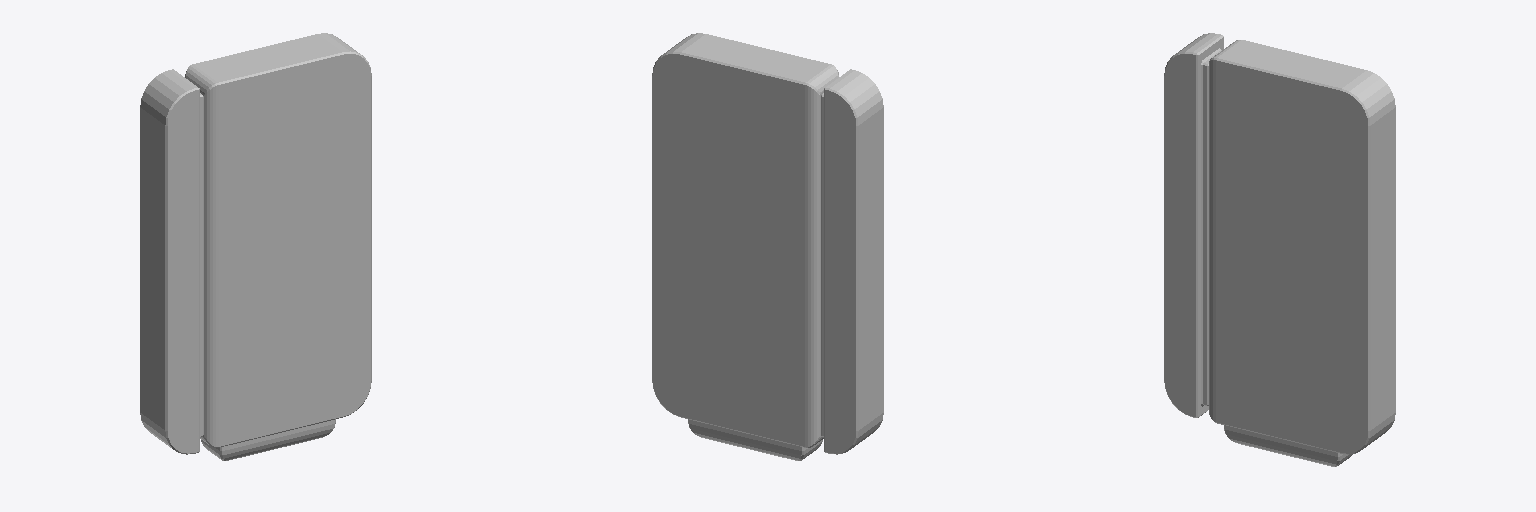
Rendered from SetA_Misc_11.obj.
3 views of the same model, side by side, from view 1: azimuth 30°, elevation 25°; view 2: azimuth 150°, elevation 25°; view 3: azimuth 330°, elevation 25° (orthographic).
Visible parts, largest first — view 1: SetA_Misc_11; view 2: SetA_Misc_11; view 3: SetA_Misc_11.
Part boxes in pixels (x1,y1,x2,y2): SetA_Misc_11: (140, 33, 371, 460); SetA_Misc_11: (652, 33, 883, 460); SetA_Misc_11: (1164, 33, 1395, 466).
Size of the model in its own units: 0.2998 by 0.5408 by 0.0674.